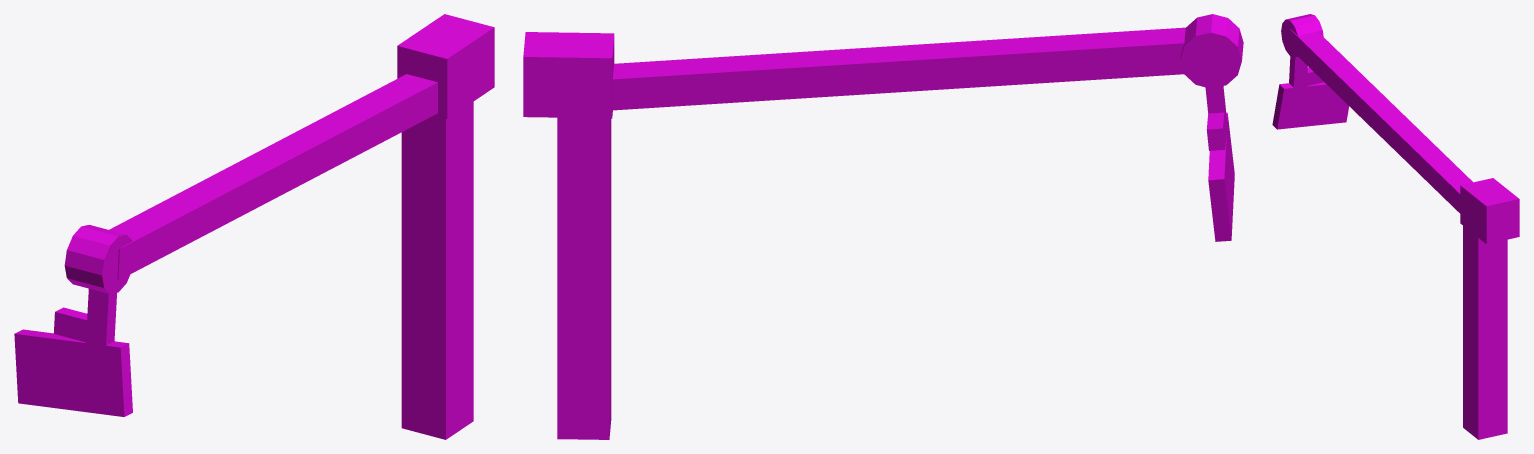
Rendered from SM_MachineDArmCollider.fbx.
3 renders of one model, left to right at view 1: azimuth 30°, elevation 25°; view 2: azimuth 150°, elevation 25°; view 3: azimuth 270°, elevation 25°, orthographic. The views are drawn at different scales.
Parts seen in each view (by area): view 1: MachineDArmCollision; view 2: MachineDArmCollision; view 3: MachineDArmCollision.
Boxes of the visible parts, x1,y1,x2,y2 form: MachineDArmCollision: (14,14,494,439); MachineDArmCollision: (523,14,1243,439); MachineDArmCollision: (1272,14,1519,439).
Size of the model in its own units: 60.45 by 40.75 by 34.61.
